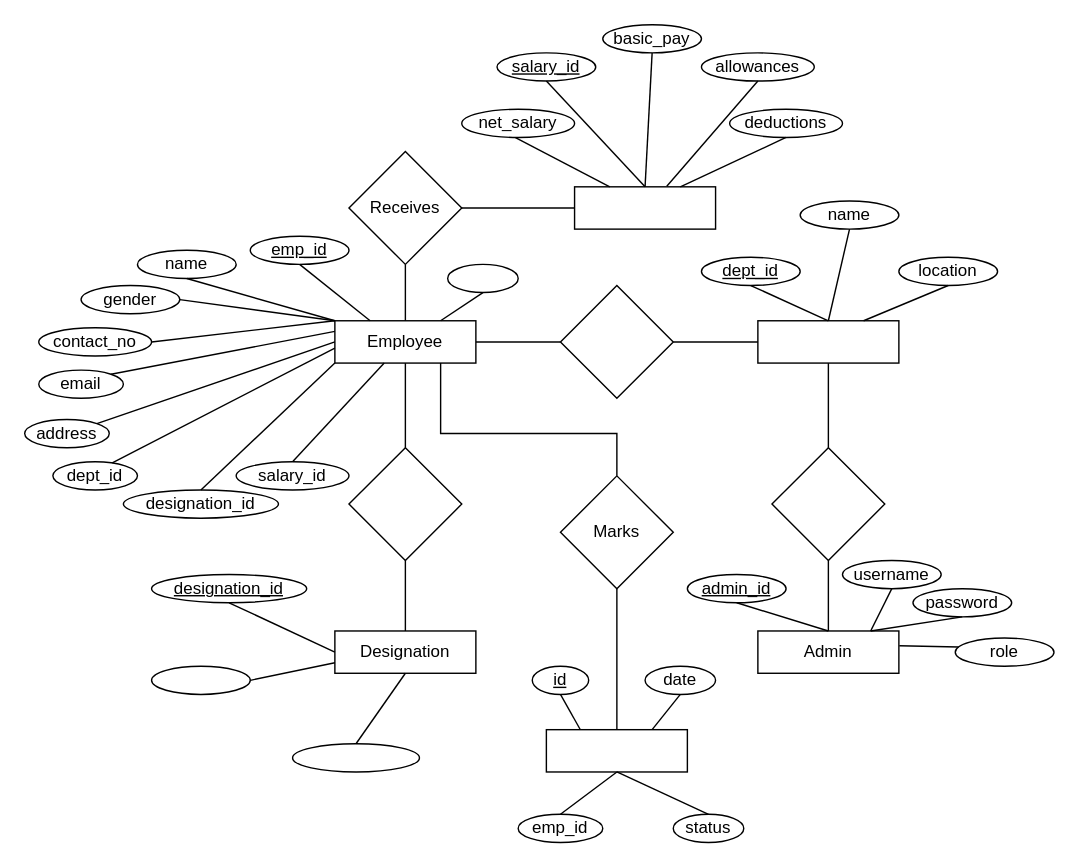
Image size: 1079x867. Some labels were removed from this diagram. Each missing label, with the box of its shape:
Attendance: (545, 728, 687, 772)
Belongs_to: (559, 284, 673, 398)
Department: (756, 319, 899, 363)
description: (291, 742, 419, 772)
dob: (446, 263, 518, 293)
Holds: (348, 446, 462, 560)
Manages: (771, 446, 885, 560)
Salary: (573, 185, 716, 229)
title: (150, 665, 250, 694)
